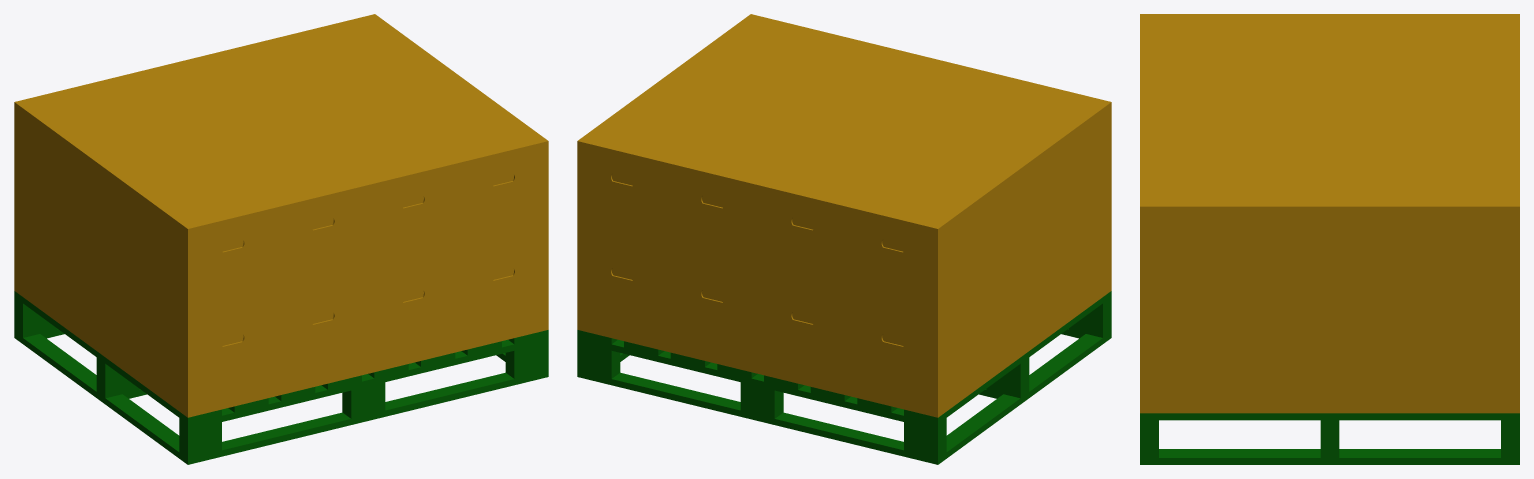
File: MediumPallet.dae
The picture shows the model from 3 angles, left to right: view 1: azimuth 30°, elevation 25°; view 2: azimuth 150°, elevation 25°; view 3: azimuth 270°, elevation 25°; orthographic projection. The views are drawn at different scales.
Parts seen in each view (by area): view 1: 组件_4 (×13), group_5, group_17, group_6, group_8, group_4, group_14, group_15, group_12, group_19; view 2: 组件_4 (×13), group_16, group_17, group_23, group_8, group_19, group_21, group_20, group_12, group_4; view 3: 组件_4 (×10), group_22, group_1, group_11, group_15, group_20.
Part boxes in pixels (left/top/right/bottom): 组件_4 (×13): left=14, top=14, right=548, bottom=417; group_5: left=205, top=372, right=531, bottom=460; group_17: left=14, top=332, right=204, bottom=464; group_6: left=179, top=336, right=548, bottom=430; group_8: left=14, top=291, right=221, bottom=423; group_4: left=179, top=422, right=221, bottom=458; group_14: left=342, top=382, right=385, bottom=418; group_15: left=505, top=342, right=548, bottom=378; group_12: left=96, top=364, right=139, bottom=398; group_19: left=14, top=303, right=57, bottom=337; 组件_4 (×13): left=577, top=14, right=1111, bottom=417; group_16: left=594, top=372, right=920, bottom=460; group_17: left=921, top=332, right=1111, bottom=464; group_23: left=577, top=336, right=946, bottom=430; group_8: left=904, top=291, right=1111, bottom=423; group_19: left=904, top=422, right=946, bottom=458; group_21: left=740, top=382, right=783, bottom=418; group_20: left=577, top=342, right=620, bottom=378; group_12: left=986, top=364, right=1029, bottom=398; group_4: left=1068, top=303, right=1111, bottom=337; 组件_4 (×10): left=1140, top=14, right=1519, bottom=413; group_22: left=1140, top=449, right=1519, bottom=464; group_1: left=1140, top=413, right=1519, bottom=420; group_11: left=1320, top=427, right=1339, bottom=457; group_15: left=1140, top=427, right=1158, bottom=457; group_20: left=1501, top=427, right=1519, bottom=457.
Size of the model in its own units: 47.24 by 39.37 by 29.53.
